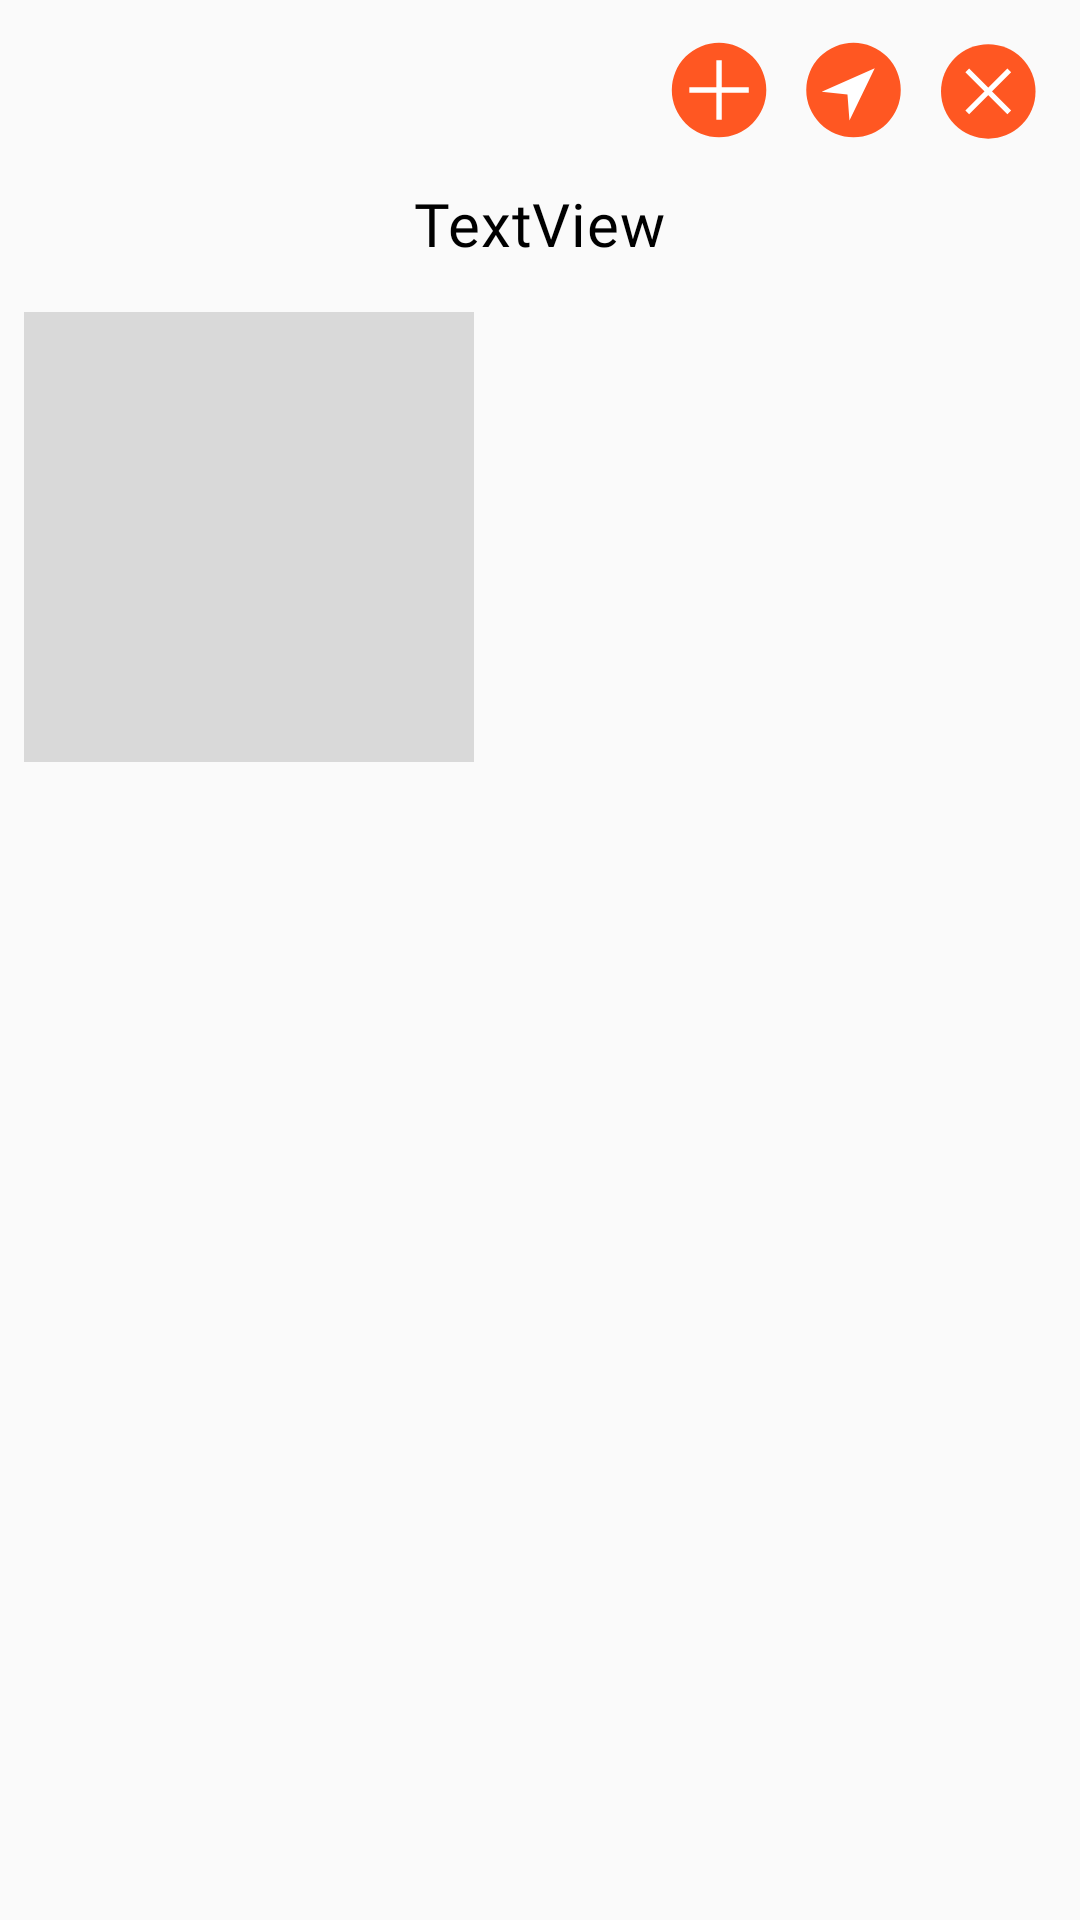

Icons on this 1080 × 1920 Android screen, each with its box as (x1, y1, x2, y2):
iti close: (941, 44, 1036, 139)
iti navigate: (806, 42, 901, 138)
